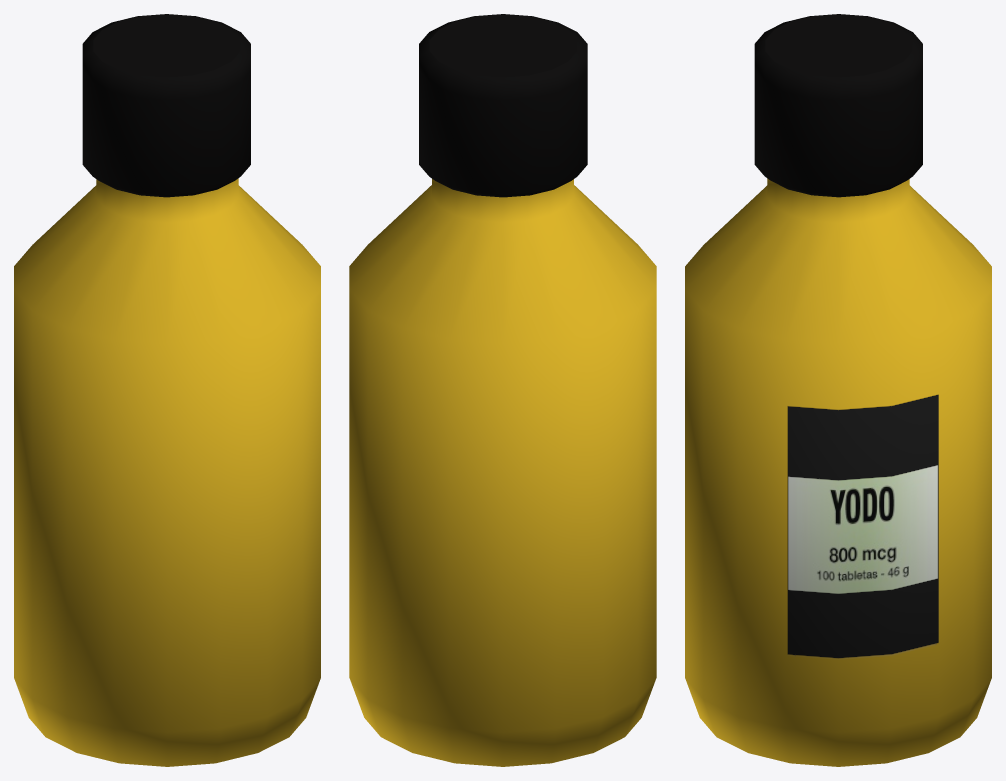
File: Medicine 3.FBX
The picture shows the model from 3 angles, left to right: view 1: azimuth 30°, elevation 25°; view 2: azimuth 150°, elevation 25°; view 3: azimuth 270°, elevation 25°; orthographic projection.
Parts seen in each view (by area): view 1: medicine 3; view 2: medicine 3; view 3: medicine 3.
Boxes of the visible parts, <box> form: medicine 3: <box>14,14,320,766</box>; medicine 3: <box>349,14,656,766</box>; medicine 3: <box>685,14,991,766</box>.
Bounding box in the file's own units: 78.99 × 185 × 77.79.
1 material, 1 textured.
